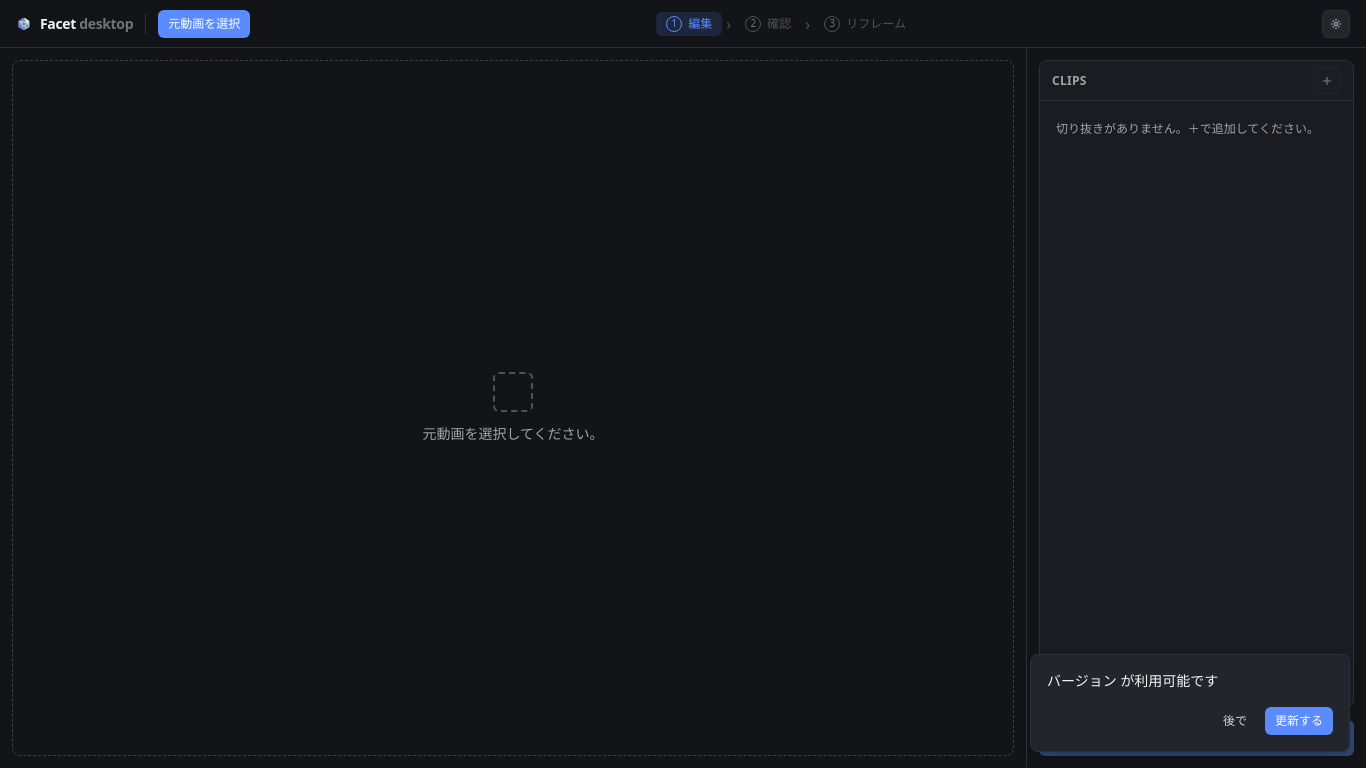
App: 設定ダイアログ › ヘッダの歯車ボタンから設定ダイアログを開閉できる
Click the button named "設定" at [1336, 24], box [1322,10,1350,38]
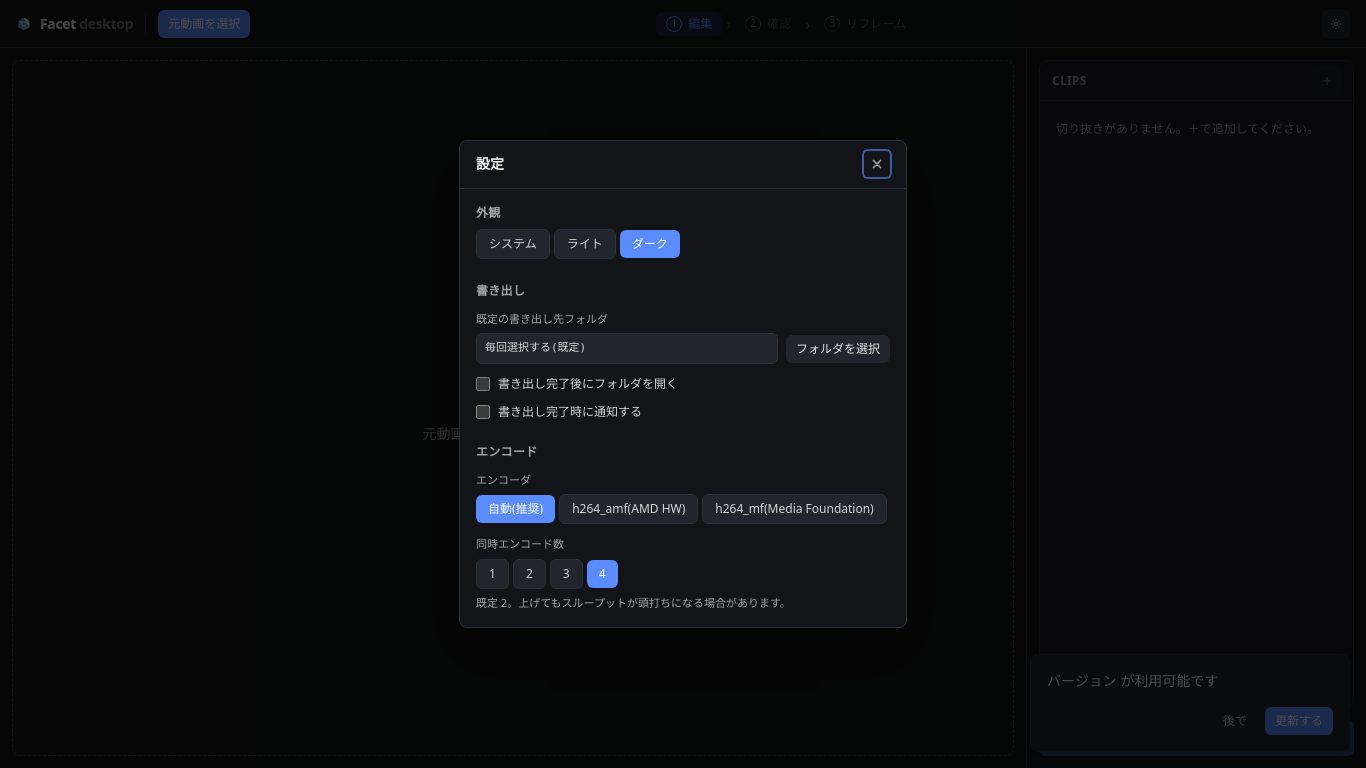
Expected: the dialog is shown
Expected: the heading "設定" is shown, [476,154,504,174]
Press Escape
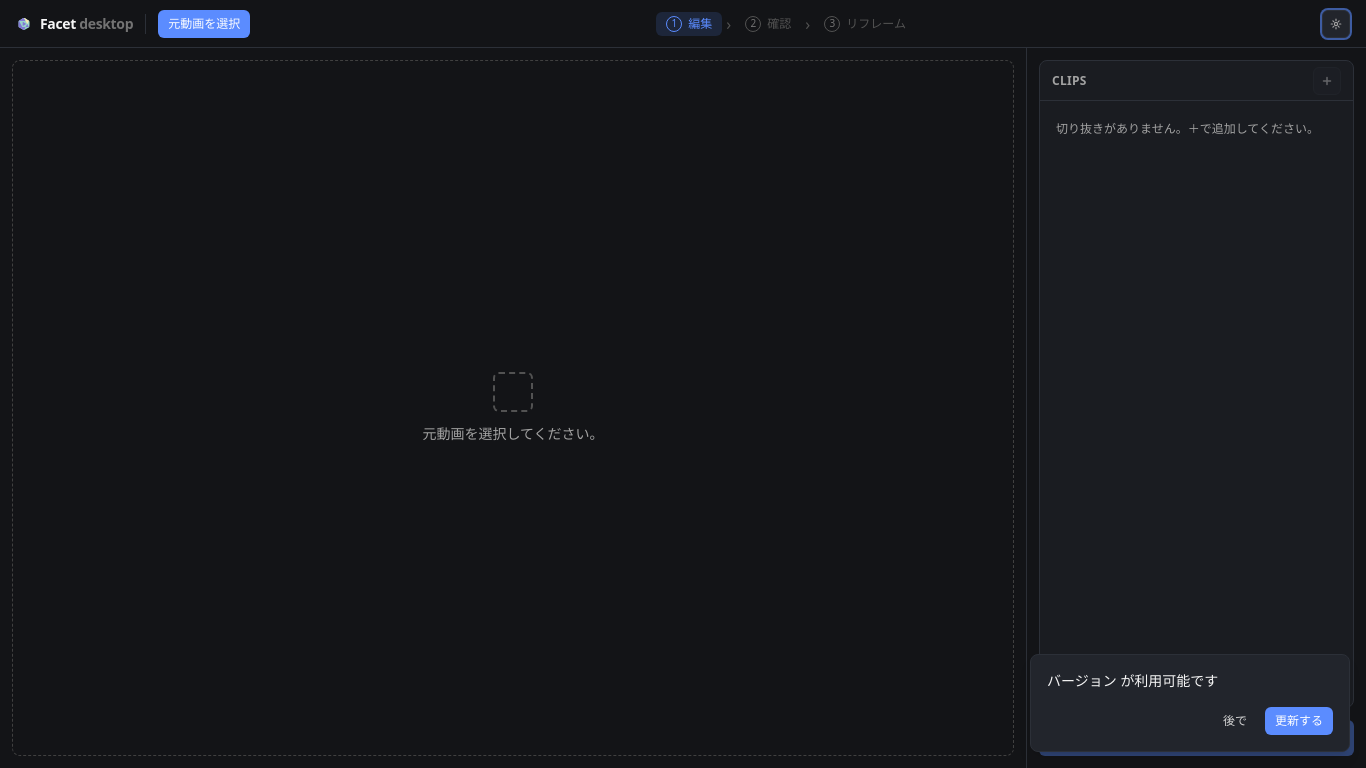
Expected: the dialog is gone
